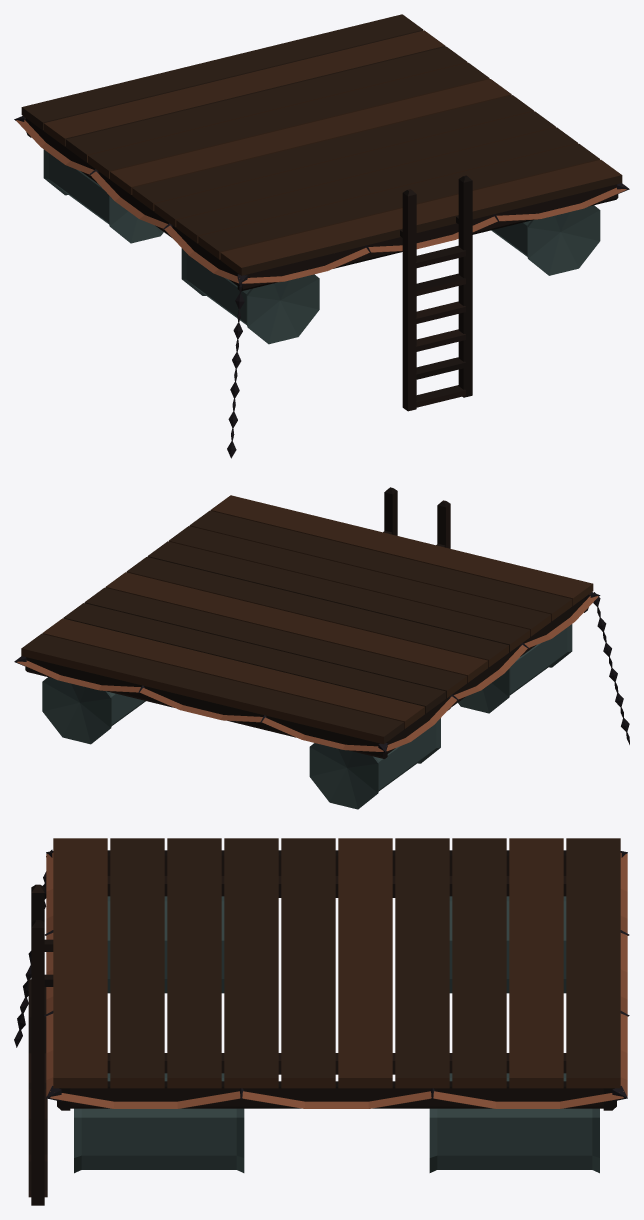
The model's file is swim-raft-6aefb5.fbx.
3 views of the same model, one above another, from view 1: azimuth 30°, elevation 25°; view 2: azimuth 150°, elevation 25°; view 3: azimuth 270°, elevation 25° (orthographic). The views are drawn at different scales.
Visible parts, largest first — view 1: raft_deck, raft_deck_light, raft_drum, raft_frame_light, ladder-timber_frame_light, ladder-timber_frame, ladder-timber_deck_dark, grab-line-front-rope, grab-line-left-rope, raft_iron; view 2: raft_deck, raft_deck_light, raft_drum, raft_frame_light, grab-line-back-rope, grab-line-left-rope, raft_iron, ladder-timber_frame_light, ladder-timber_frame; view 3: raft_deck, raft_deck_light, raft_drum, raft_frame_light, ladder-timber_frame_light, grab-line-right-rope, grab-line-back-rope, raft_deck_dark, grab-line-front-rope, raft_iron, ladder-timber_frame, raft_frame (+1 smaller).
Boxes of the visible parts, x1=… form: raft_deck: x1=21, y1=14, x2=622, y2=275; raft_deck_light: x1=44, y1=30, x2=621, y2=275; raft_drum: x1=43, y1=149, x2=600, y2=344; raft_frame_light: x1=31, y1=122, x2=618, y2=289; ladder-timber_frame_light: x1=400, y1=179, x2=465, y2=411; ladder-timber_frame: x1=403, y1=175, x2=472, y2=397; ladder-timber_deck_dark: x1=402, y1=189, x2=465, y2=410; grab-line-front-rope: x1=239, y1=187, x2=626, y2=283; grab-line-left-rope: x1=16, y1=120, x2=238, y2=283; raft_iron: x1=14, y1=116, x2=629, y2=458; raft_deck: x1=21, y1=510, x2=571, y2=743; raft_deck_light: x1=21, y1=495, x2=593, y2=744; raft_drum: x1=42, y1=624, x2=572, y2=809; raft_frame_light: x1=25, y1=598, x2=584, y2=758; grab-line-back-rope: x1=17, y1=660, x2=383, y2=751; grab-line-left-rope: x1=386, y1=596, x2=598, y2=751; raft_iron: x1=14, y1=592, x2=629, y2=752; ladder-timber_frame_light: x1=383, y1=491, x2=445, y2=547; ladder-timber_frame: x1=384, y1=487, x2=450, y2=534; raft_deck: x1=110, y1=838, x2=620, y2=1077; raft_deck_light: x1=53, y1=838, x2=620, y2=1088; raft_drum: x1=74, y1=896, x2=599, y2=1173; raft_frame_light: x1=70, y1=884, x2=603, y2=1108; ladder-timber_frame_light: x1=28, y1=885, x2=53, y2=1205; grab-line-right-rope: x1=50, y1=1091, x2=623, y2=1108; grab-line-back-rope: x1=619, y1=853, x2=627, y2=1096; raft_deck_dark: x1=107, y1=855, x2=566, y2=1074; grab-line-front-rope: x1=46, y1=853, x2=54, y2=1096; raft_iron: x1=14, y1=849, x2=629, y2=1101; ladder-timber_frame: x1=28, y1=885, x2=53, y2=1053; raft_frame: x1=57, y1=850, x2=616, y2=1110.
Bounding box in the file's own units: 326 × 164 × 326.
